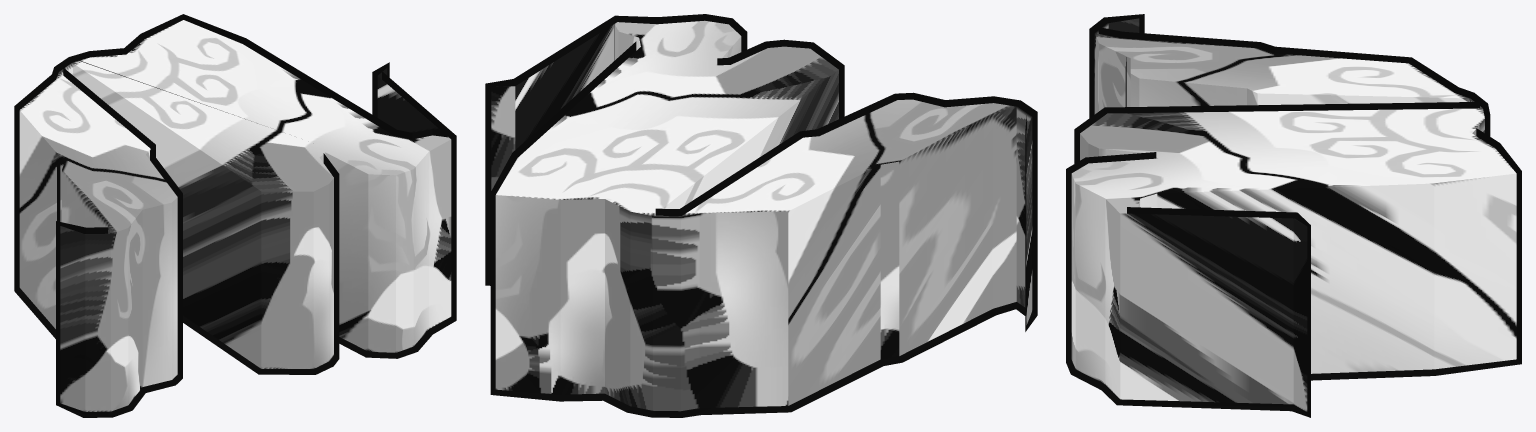
The model's file is Building_NatureShrine_Large_Things_Building_Misc_NatureShrine_Large_NatureShrine_Large_Smooth.glb.
The picture shows the model from 3 angles, left to right: view 1: azimuth 30°, elevation 25°; view 2: azimuth 150°, elevation 25°; view 3: azimuth 270°, elevation 25°; orthographic projection. The views are drawn at different scales.
Parts seen in each view (by area): view 1: Body, Outline; view 2: Body, Outline; view 3: Body, Outline.
Boxes of the visible parts, x1,y1,x2,y2 form: Body: (19,20,451,411); Outline: (14,14,456,417); Body: (491,20,1032,411); Outline: (485,14,1037,417); Body: (1071,18,1516,411); Outline: (1066,14,1521,417).
Size of the model in its own units: 3.3 by 1.44 by 3.01.
Materials: 2 (1 with a texture image).
